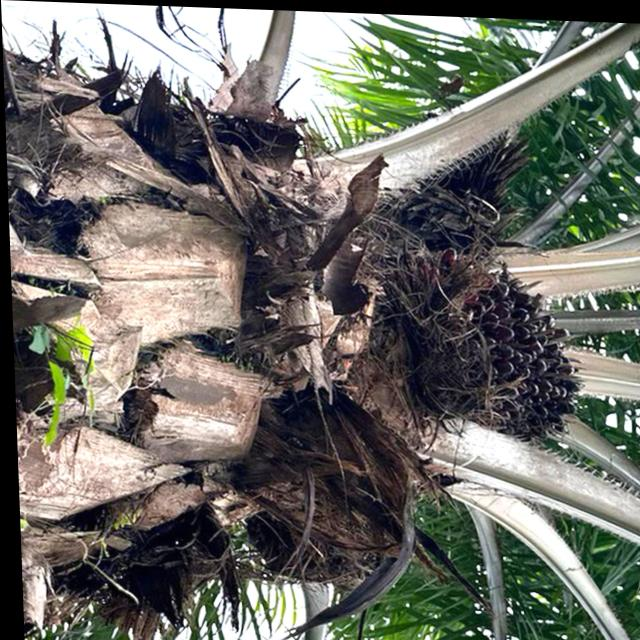almost: (355, 237, 582, 444)
